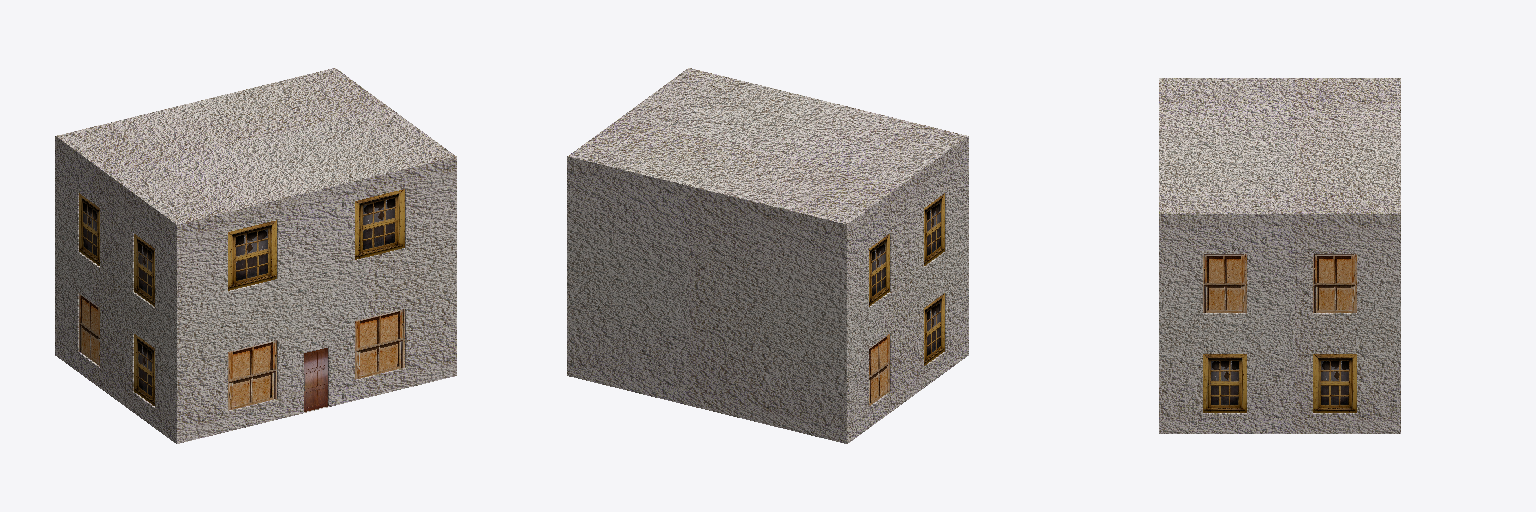
3 renders of one model, left to right at view 1: azimuth 30°, elevation 25°; view 2: azimuth 150°, elevation 25°; view 3: azimuth 270°, elevation 25°, orthographic.
Visible parts, largest first — view 1: Cube; view 2: Cube; view 3: Cube.
Part boxes in pixels (x1,y1,x2,y2): Cube: (55,68,456,443); Cube: (567,68,968,443); Cube: (1159,78,1400,433).
Bounding box in the file's own units: 16 × 12 × 12.
Materials: 4 (4 with a texture image).